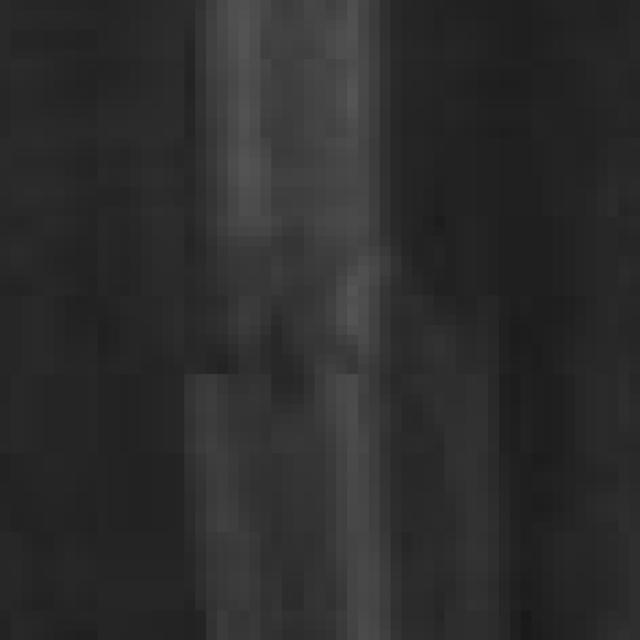fracture: (9, 2, 640, 640)
